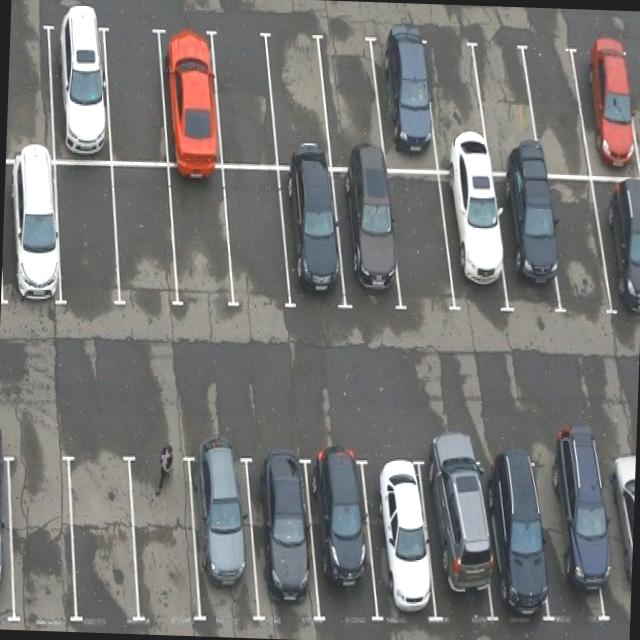car: (544, 446, 608, 628), (366, 447, 426, 628), (250, 442, 310, 622), (437, 168, 510, 312), (278, 161, 348, 310), (312, 453, 375, 618), (425, 452, 487, 616), (568, 31, 638, 176), (190, 454, 251, 612), (0, 158, 64, 306), (490, 454, 542, 626), (374, 28, 439, 165), (161, 24, 222, 166), (49, 10, 107, 158), (342, 172, 401, 308), (590, 172, 640, 317), (504, 170, 550, 304), (0, 443, 17, 620)
free: (127, 454, 205, 620), (8, 454, 78, 614), (68, 461, 138, 615), (220, 161, 292, 310), (52, 157, 120, 308), (101, 22, 170, 166), (523, 35, 592, 175), (392, 163, 454, 314), (318, 28, 385, 163), (210, 28, 275, 164), (168, 167, 230, 306), (426, 33, 489, 168), (116, 165, 172, 304), (264, 32, 327, 154), (5, 18, 56, 160), (551, 174, 601, 318), (477, 39, 534, 158)
